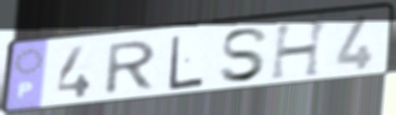4: (333, 13, 378, 75), (55, 43, 93, 102)
H: (268, 17, 333, 83)
L: (167, 33, 206, 93)
R: (101, 38, 161, 98)
S: (217, 25, 272, 85)
